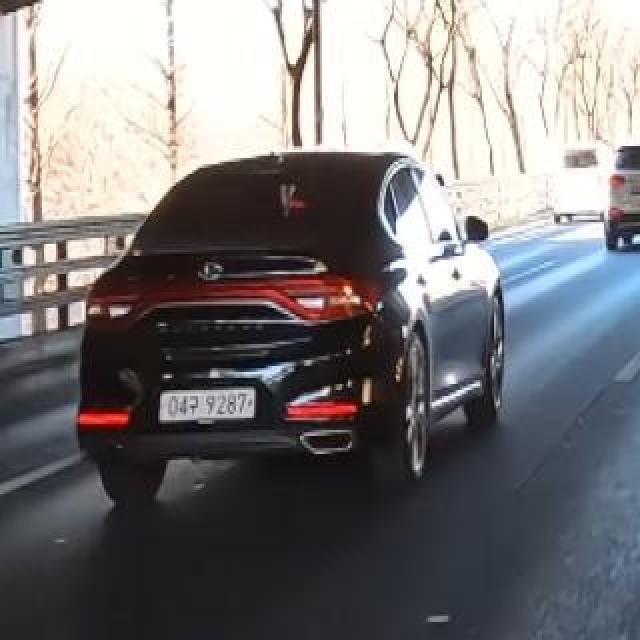car: (69, 136, 516, 524)
illegal_plate: (156, 384, 258, 428)
